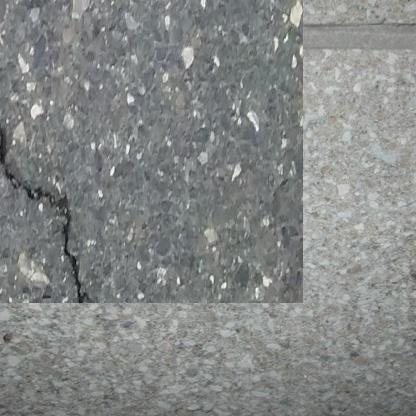Cracks: (0, 84, 84, 280)
